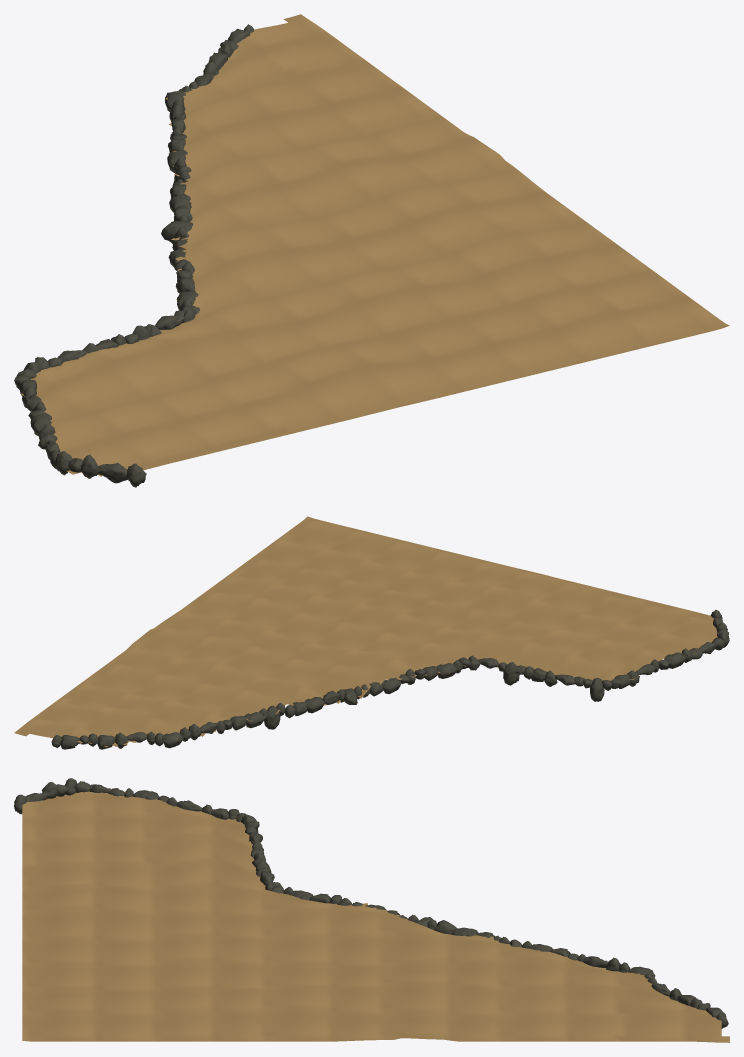
Rendered from ground_03.fbx.
3 views of the same model, one above another, from view 1: azimuth 30°, elevation 25°; view 2: azimuth 150°, elevation 25°; view 3: azimuth 270°, elevation 25° (orthographic). The views are drawn at different scales.
Parts seen in each view (by area): view 1: polySurface_ground_03; view 2: polySurface_ground_03; view 3: polySurface_ground_03.
Part boxes in pixels (left/top/right/bottom): polySurface_ground_03: left=14, top=14, right=729, bottom=487; polySurface_ground_03: left=14, top=516, right=729, bottom=749; polySurface_ground_03: left=14, top=778, right=729, bottom=1042.
Bounding box in the file's own units: 450 × 28.76 × 525.
